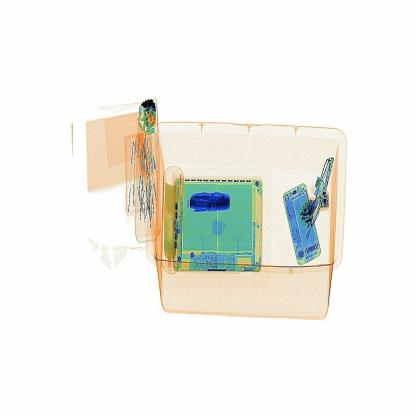scissors: (183, 186, 236, 223)
